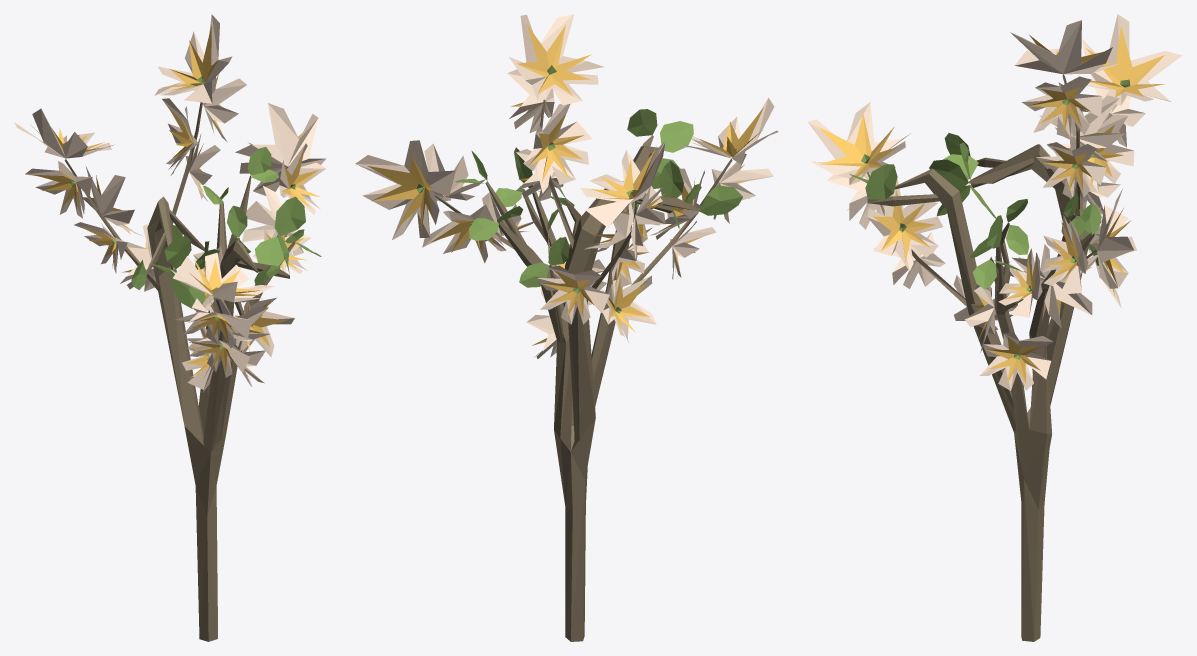
The model's file is Cherry_3_4.fbx.
The picture shows the model from 3 angles, left to right: view 1: azimuth 30°, elevation 25°; view 2: azimuth 150°, elevation 25°; view 3: azimuth 270°, elevation 25°; orthographic projection. The views are drawn at different scales.
Parts seen in each view (by area): view 1: Cherry_3_4; view 2: Cherry_3_4; view 3: Cherry_3_4.
Part boxes in pixels (left/top/right/bottom): Cherry_3_4: left=14, top=14, right=325, bottom=641; Cherry_3_4: left=355, top=14, right=778, bottom=641; Cherry_3_4: left=807, top=14, right=1182, bottom=641.
Bounding box in the file's own units: 197 × 382 × 206.
